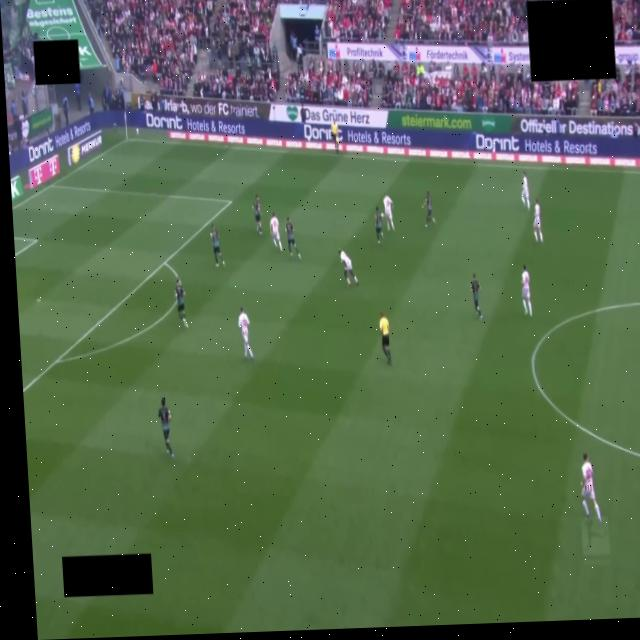player: (581, 453, 601, 522), (159, 397, 173, 458), (238, 308, 254, 361), (339, 251, 358, 288), (175, 277, 188, 328), (286, 218, 301, 259), (210, 225, 224, 266), (471, 274, 483, 319), (522, 265, 532, 316), (270, 212, 282, 251), (533, 199, 543, 243), (423, 192, 435, 226), (253, 195, 261, 235), (384, 195, 393, 230), (522, 172, 529, 210), (375, 206, 382, 243)
referee: (380, 313, 391, 364)
